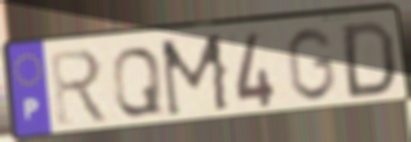4: (233, 29, 278, 111)
D: (341, 18, 398, 101)
G: (283, 25, 338, 104)
M: (157, 31, 233, 121)
Q: (110, 44, 166, 119)
R: (47, 46, 113, 128)
